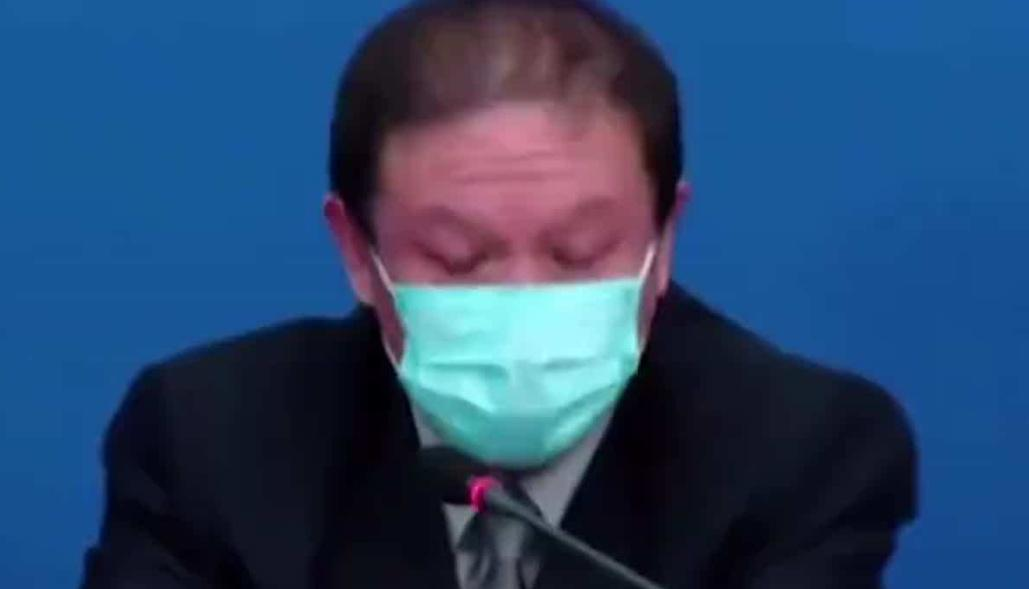OK: (375, 164, 656, 467)
